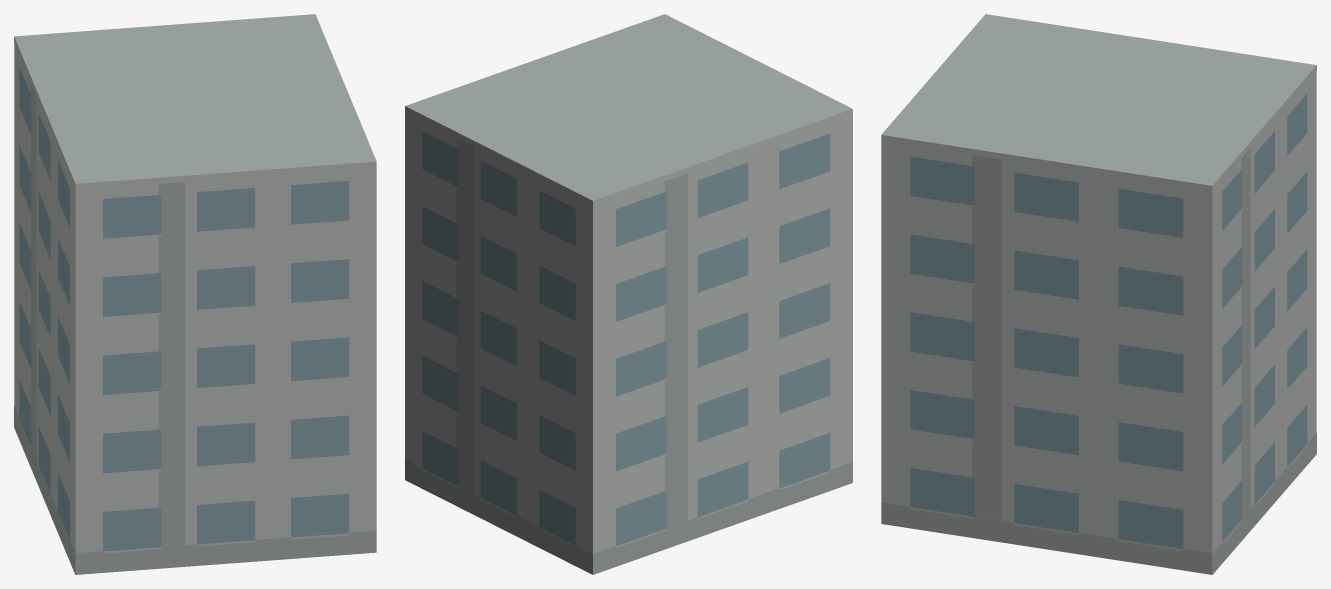
The model's file is residential-18010698-3add-4d10-8b34-3d90e041b9b4.glb.
3 renders of one model, left to right at view 1: azimuth 30°, elevation 25°; view 2: azimuth 150°, elevation 25°; view 3: azimuth 270°, elevation 25°, orthographic. The views are drawn at different scales.
Visible parts, largest first — view 1: residential-18010698-3add-4d10-8b34-3d90e041b9b4.tmp; view 2: residential-18010698-3add-4d10-8b34-3d90e041b9b4.tmp; view 3: residential-18010698-3add-4d10-8b34-3d90e041b9b4.tmp.
Part boxes in pixels (x1,y1,x2,y2): residential-18010698-3add-4d10-8b34-3d90e041b9b4.tmp: [14, 14, 376, 574]; residential-18010698-3add-4d10-8b34-3d90e041b9b4.tmp: [405, 14, 852, 574]; residential-18010698-3add-4d10-8b34-3d90e041b9b4.tmp: [881, 14, 1316, 574].
Bounding box in the file's own units: 14.46 × 15.25 × 15.48.
